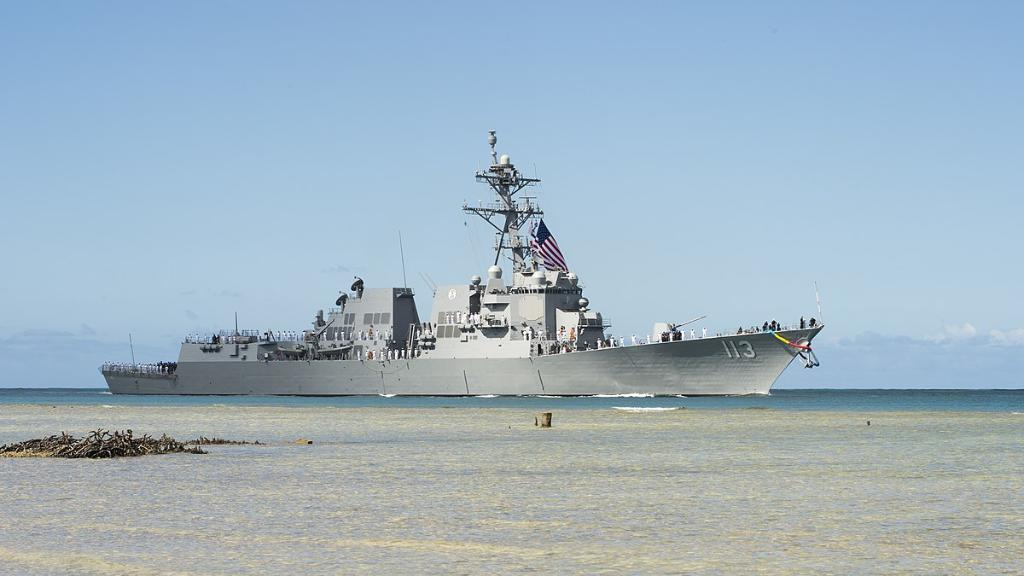Warship: (100, 124, 828, 402)
